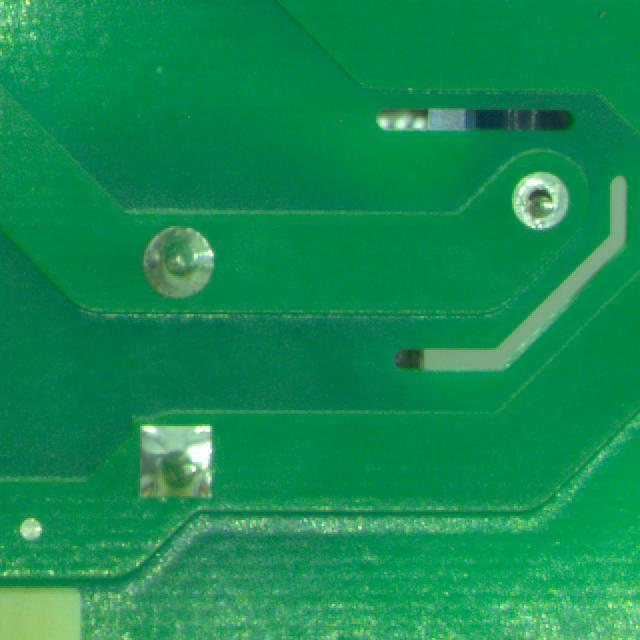Insufficient solder: (508, 166, 574, 237)
